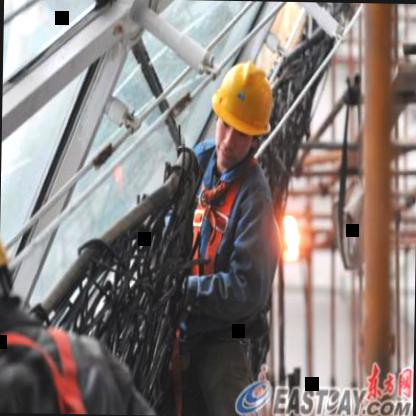helmet: (205, 56, 277, 164)
